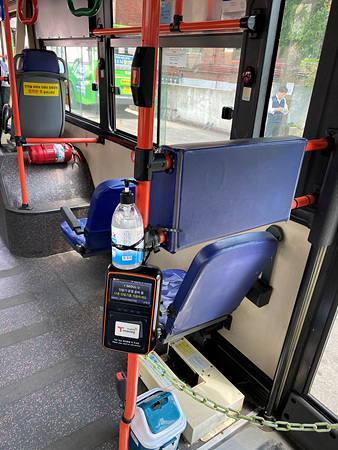terminal: (103, 267, 154, 350)
